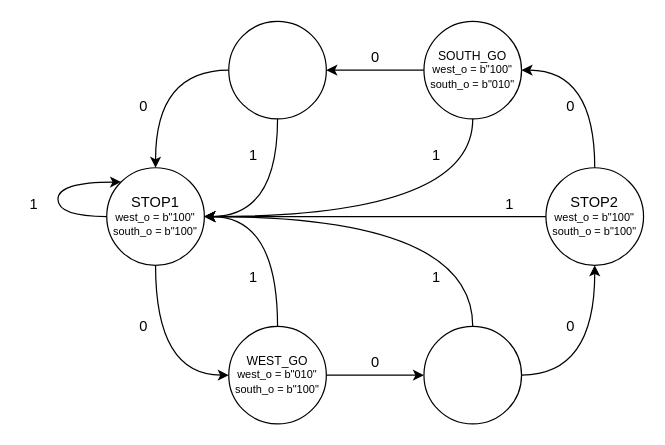
Some shapes in this 665 by 445 pixel diagram are drawn without their labels. The centre of each missing label's shape, as x and y in pixels:
SOUTH_WAIT west_o = b"100" south_o = b"110": (277,69)
WEST_WAIT west_o = b"110" south_o = b"100": (472,374)
